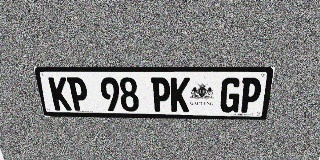8: (119, 77, 139, 111)
9: (99, 77, 121, 111)
G: (219, 78, 242, 113)
K: (48, 77, 72, 110), (171, 77, 190, 112)
P: (238, 78, 263, 113), (67, 77, 90, 111), (151, 77, 170, 112)
